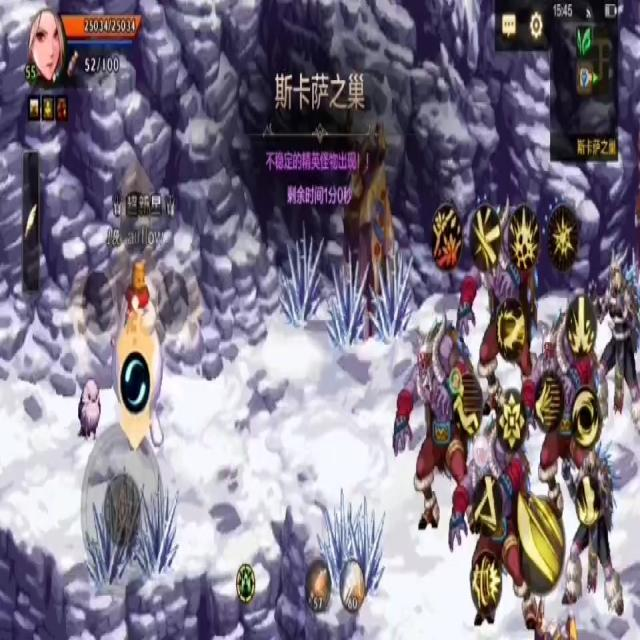player: (118, 258, 165, 457)
